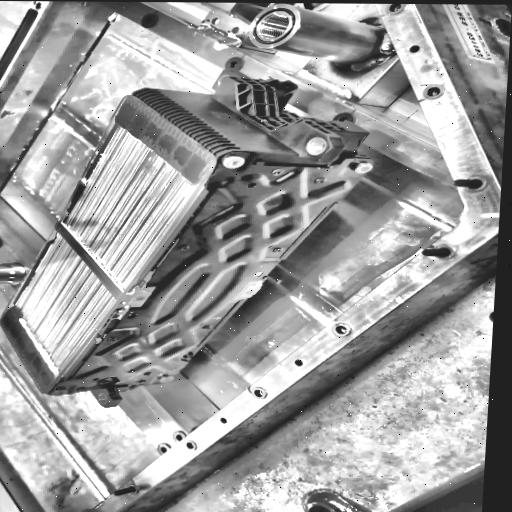battery_module: (0, 55, 406, 409)
